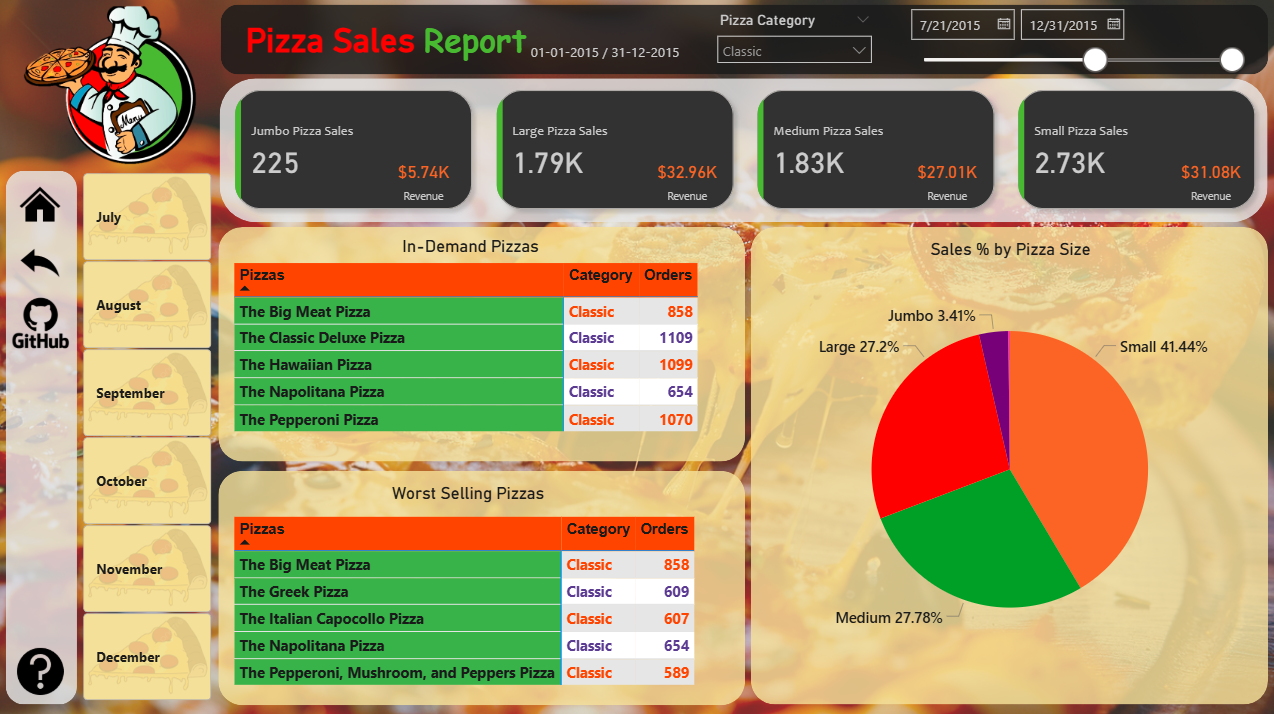

The dashboard page shown, as its layout file describes it:
{"tool":"powerbi","page":{"name":"Dashboard 2","canvas":[1280,720],"ordinal":1},"visuals":[{"type":"shape","box":[222.3,81,1048.4,144.1],"z":0},{"type":"shape","box":[220.9,230.5,526.9,234.6],"z":1000},{"type":"shape","box":[8.2,174.3,71.4,533.8],"z":2000},{"type":"image","box":[15,168.8,56.2,76.2],"z":3000},{"type":"image","box":[15,225,56.2,81.2],"z":4000},{"type":"image","box":[7.5,280,71.2,92.5],"z":5000},{"type":"image","box":[5,640,76.2,68.8],"z":6000},{"type":"image","box":[5,0,216.2,175],"z":7000},{"type":"shape","box":[223.8,7.5,1047.5,70],"z":8000},{"type":"textbox","box":[243.8,15,345,56.2],"z":9000},{"type":"textbox","box":[528.8,41.2,195,27.5],"z":10000},{"type":"slicer","fields":{"Values":["public pizza_orders.pizza_category"]},"box":[710,10,175,61.2],"z":11000},{"type":"slicer","fields":{"Values":["public pizza_orders.order_date"]},"box":[900,7.5,356.2,73.8],"z":12000},{"type":"advancedSlicerVisual","fields":{"Values":["public pizza_orders.MonthFull_name"]},"box":[86.4,175.6,133.1,532.4],"z":13000},{"type":"shape","box":[363.6,230.5,219.6,37],"z":14000},{"type":"shape","box":[220.9,473.4,526.9,234.6],"z":14000,"group":"g1"},{"type":"pivotTable","fields":{"Rows":["public pizza_orders.pizza_name"],"Values":["Min(public pizza_orders.pizza_category)","Sum(public pizza_orders.quantity)"]},"box":[231.9,260.7,565.4,201.7],"z":15000},{"type":"shape","box":[753.3,230.5,517.3,477.5],"z":16000,"group":"g2"},{"type":"group","id":"g1","title":"Group 1","box":[220.9,473.4,526.9,234.6],"z":16000},{"type":"pivotTable","fields":{"Rows":["public pizza_orders.pizza_name"],"Values":["Min(public pizza_orders.pizza_category)","Sum(public pizza_orders.quantity)"]},"box":[231.9,514.6,491.3,182.5],"z":16000,"group":"g1"},{"type":"cardVisual","fields":{"Data":["public pizza_orders.Jumbo_pizza_sales","public pizza_orders.Large_pizza_sales","public pizza_orders.Medium_pizza_sales","public pizza_orders.Small_pizza_sales"]},"box":[220.9,76.8,1056.6,153.7],"z":17000},{"type":"pieChart","fields":{"Y":["Sum(public pizza_orders.quantity)"],"Category":["public pizza_orders.pizza_size"]},"box":[768.4,269.8,488.5,407.6],"z":17000,"group":"g2"},{"type":"shape","box":[360.9,477.5,219.6,37],"z":17000,"group":"g1"},{"type":"group","id":"g2","title":"Group 2","box":[753.3,230.5,517.3,477.5],"z":18000},{"type":"shape","box":[902.9,235.4,219.6,33.1],"z":18000,"group":"g2"},{"type":"card","fields":{"Values":["public pizza_orders.JPS Revenue"]},"box":[366.4,149.6,120.8,65.9],"z":19000},{"type":"card","fields":{"Values":["public pizza_orders.LPS Revenue"]},"box":[629.8,149.6,120.8,65.9],"z":20000},{"type":"card","fields":{"Values":["public pizza_orders.MPS Revenue"]},"box":[890.6,149.6,120.8,65.9],"z":21000},{"type":"card","fields":{"Values":["public pizza_orders.SPS Revenue"]},"box":[1154,149.6,120.8,65.9],"z":22000}]}

Visuals, with their boxes on the page's 1280x720 design canvas (x1, y1, x2, y2). These are canvas units, not pixel positions in the 1274x714 screenshot, which may show the page scaled, cropped or inside an application window:
shape: bbox=[222, 81, 1271, 225]
shape: bbox=[221, 230, 748, 465]
shape: bbox=[8, 174, 80, 708]
image: bbox=[15, 169, 71, 245]
image: bbox=[15, 225, 71, 306]
image: bbox=[8, 280, 79, 372]
image: bbox=[5, 640, 81, 709]
image: bbox=[5, 0, 221, 175]
shape: bbox=[224, 8, 1271, 78]
textbox: bbox=[244, 15, 589, 71]
textbox: bbox=[529, 41, 724, 69]
slicer - public pizza_orders.pizza_category: bbox=[710, 10, 885, 71]
slicer - public pizza_orders.order_date: bbox=[900, 8, 1256, 81]
advancedSlicerVisual - public pizza_orders.MonthFull_name: bbox=[86, 176, 220, 708]
shape: bbox=[364, 230, 583, 268]
shape: bbox=[221, 473, 748, 708]
pivotTable - public pizza_orders.pizza_name x Min(public pizza_orders.pizza_category): bbox=[232, 261, 797, 462]
shape: bbox=[753, 230, 1271, 708]
"Group 1" group: bbox=[221, 473, 748, 708]
pivotTable - public pizza_orders.pizza_name x Min(public pizza_orders.pizza_category): bbox=[232, 515, 723, 697]
cardVisual - public pizza_orders.Jumbo_pizza_sales x public pizza_orders.Large_pizza_sales: bbox=[221, 77, 1278, 230]
pieChart - Sum(public pizza_orders.quantity) x public pizza_orders.pizza_size: bbox=[768, 270, 1257, 677]
shape: bbox=[361, 478, 580, 514]
"Group 2" group: bbox=[753, 230, 1271, 708]
shape: bbox=[903, 235, 1122, 268]
card - public pizza_orders.JPS Revenue: bbox=[366, 150, 487, 216]
card - public pizza_orders.LPS Revenue: bbox=[630, 150, 751, 216]
card - public pizza_orders.MPS Revenue: bbox=[891, 150, 1011, 216]
card - public pizza_orders.SPS Revenue: bbox=[1154, 150, 1275, 216]
